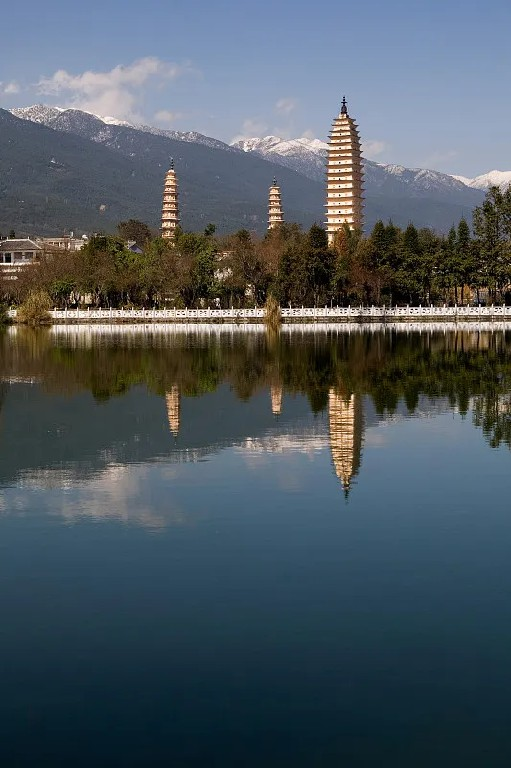ThreePagoda: (323, 94, 365, 247)
